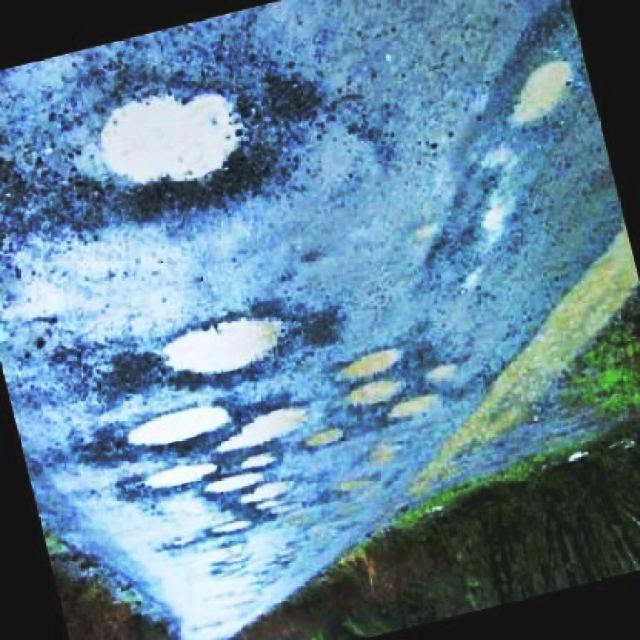pothole: (88, 82, 268, 222), (153, 304, 304, 382), (329, 332, 422, 411), (503, 44, 575, 138), (112, 400, 232, 455), (380, 357, 463, 431), (218, 403, 318, 455), (200, 468, 292, 517), (128, 459, 220, 503), (206, 517, 257, 541), (305, 426, 349, 451)
